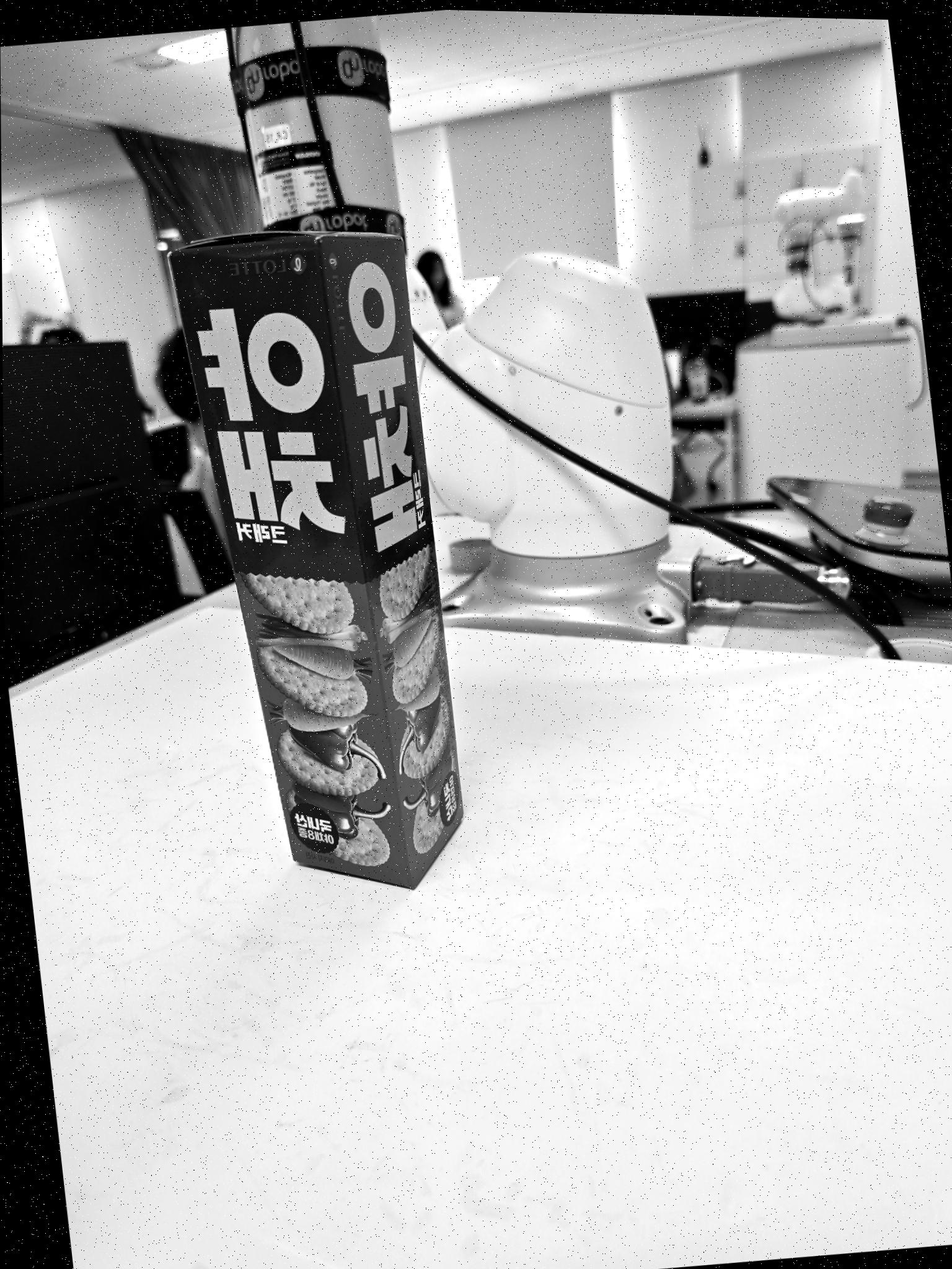cracker_vege: (170, 231, 463, 888)
